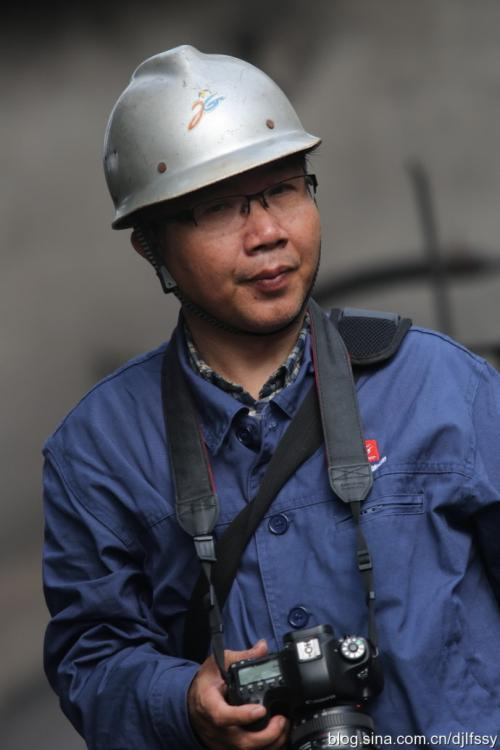boots: (102, 43, 323, 229)
hard-hat: (102, 43, 322, 229)
person: (41, 43, 499, 748)
vest: (40, 297, 499, 747)
